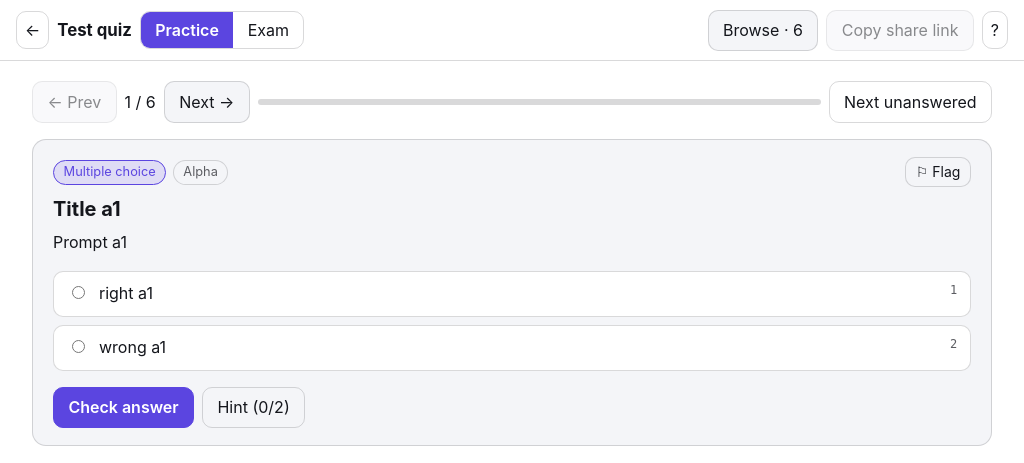
Test case: practice › navigates with the buttons and the j/k keys, and resumes at the last question
Click the button with aria-label "Next question": [207, 102] box 164,81 -> 250,123
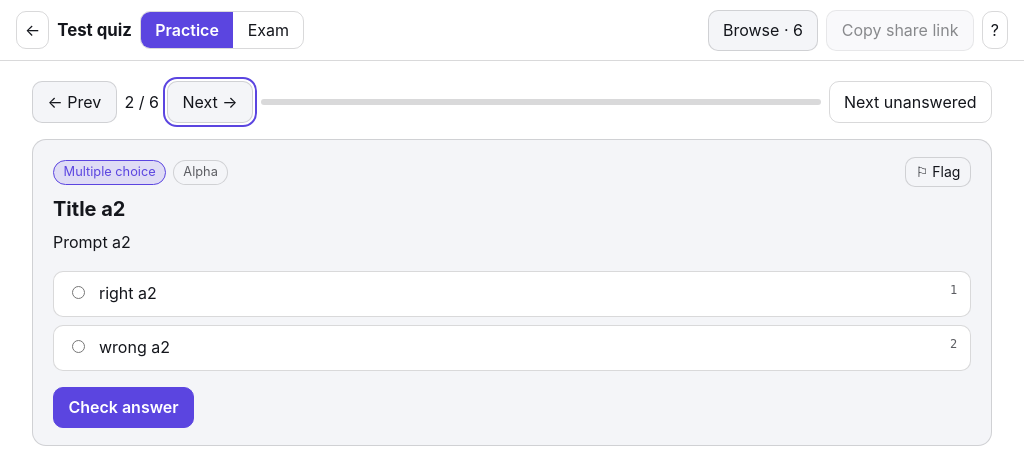
Result: the heading "Title a2" is shown at 53,197 -> 125,221
Type keys "j"
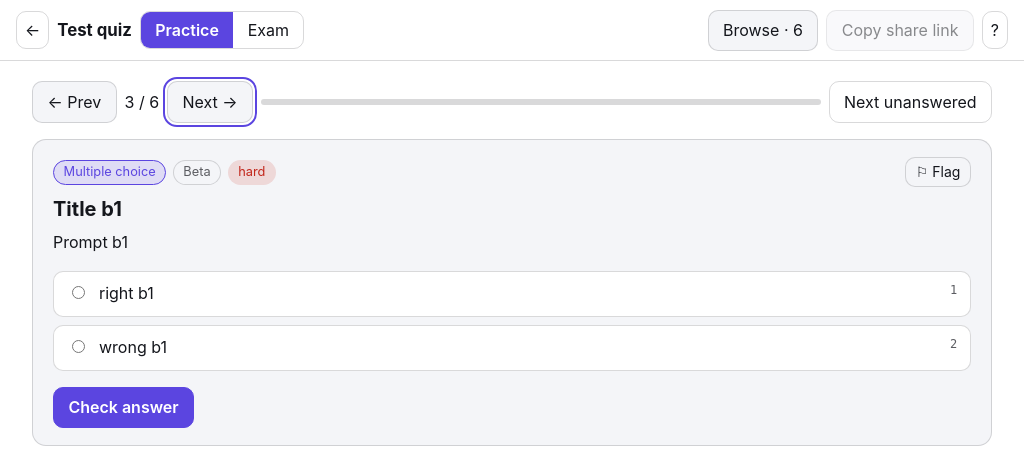
Result: the heading "Title b1" is shown at 53,197 -> 122,221
Type keys "k"
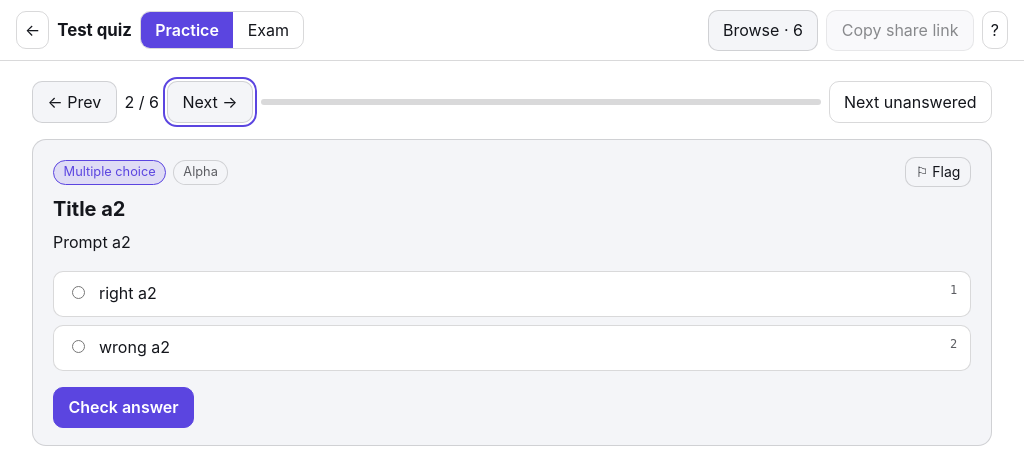
Result: the heading "Title a2" is shown at 53,197 -> 125,221
